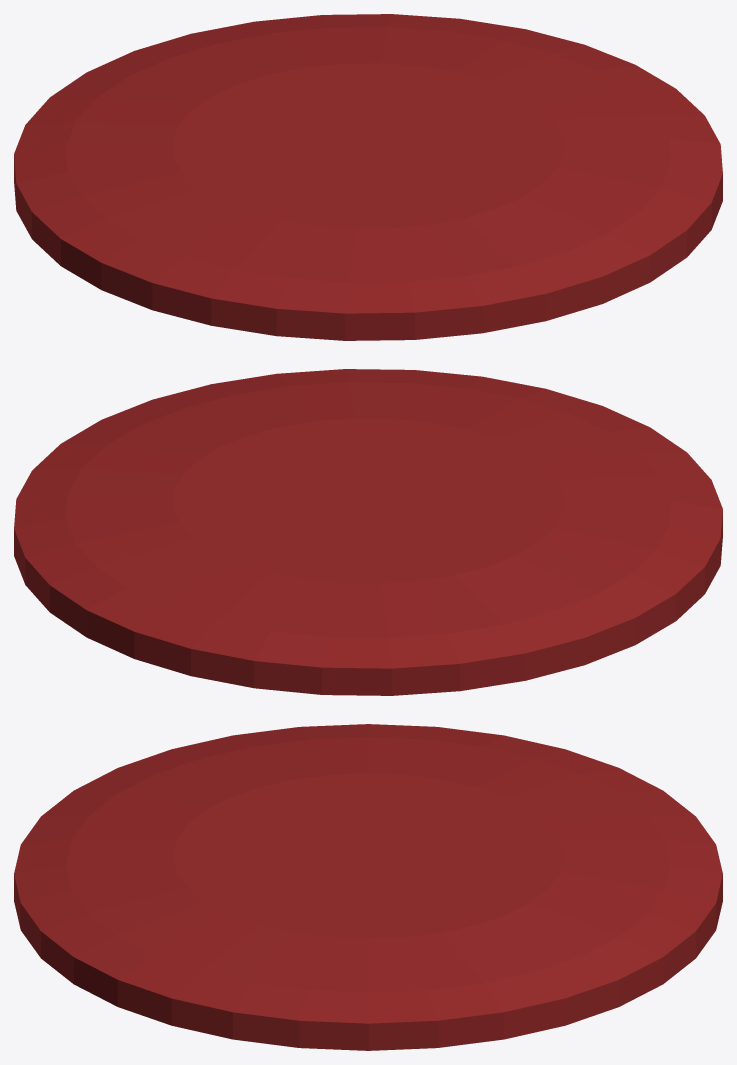
Rendered from Button.fbx.
3 views of the same model, one above another, from view 1: azimuth 30°, elevation 25°; view 2: azimuth 150°, elevation 25°; view 3: azimuth 270°, elevation 25° (orthographic).
Visible parts, largest first — view 1: Button; view 2: Button; view 3: Button.
Boxes of the visible parts, x1,y1,x2,y2 form: Button: (14,14,722,340); Button: (14,369,722,695); Button: (14,724,722,1050).
Bounding box in the file's own units: 187 × 13.13 × 187.
